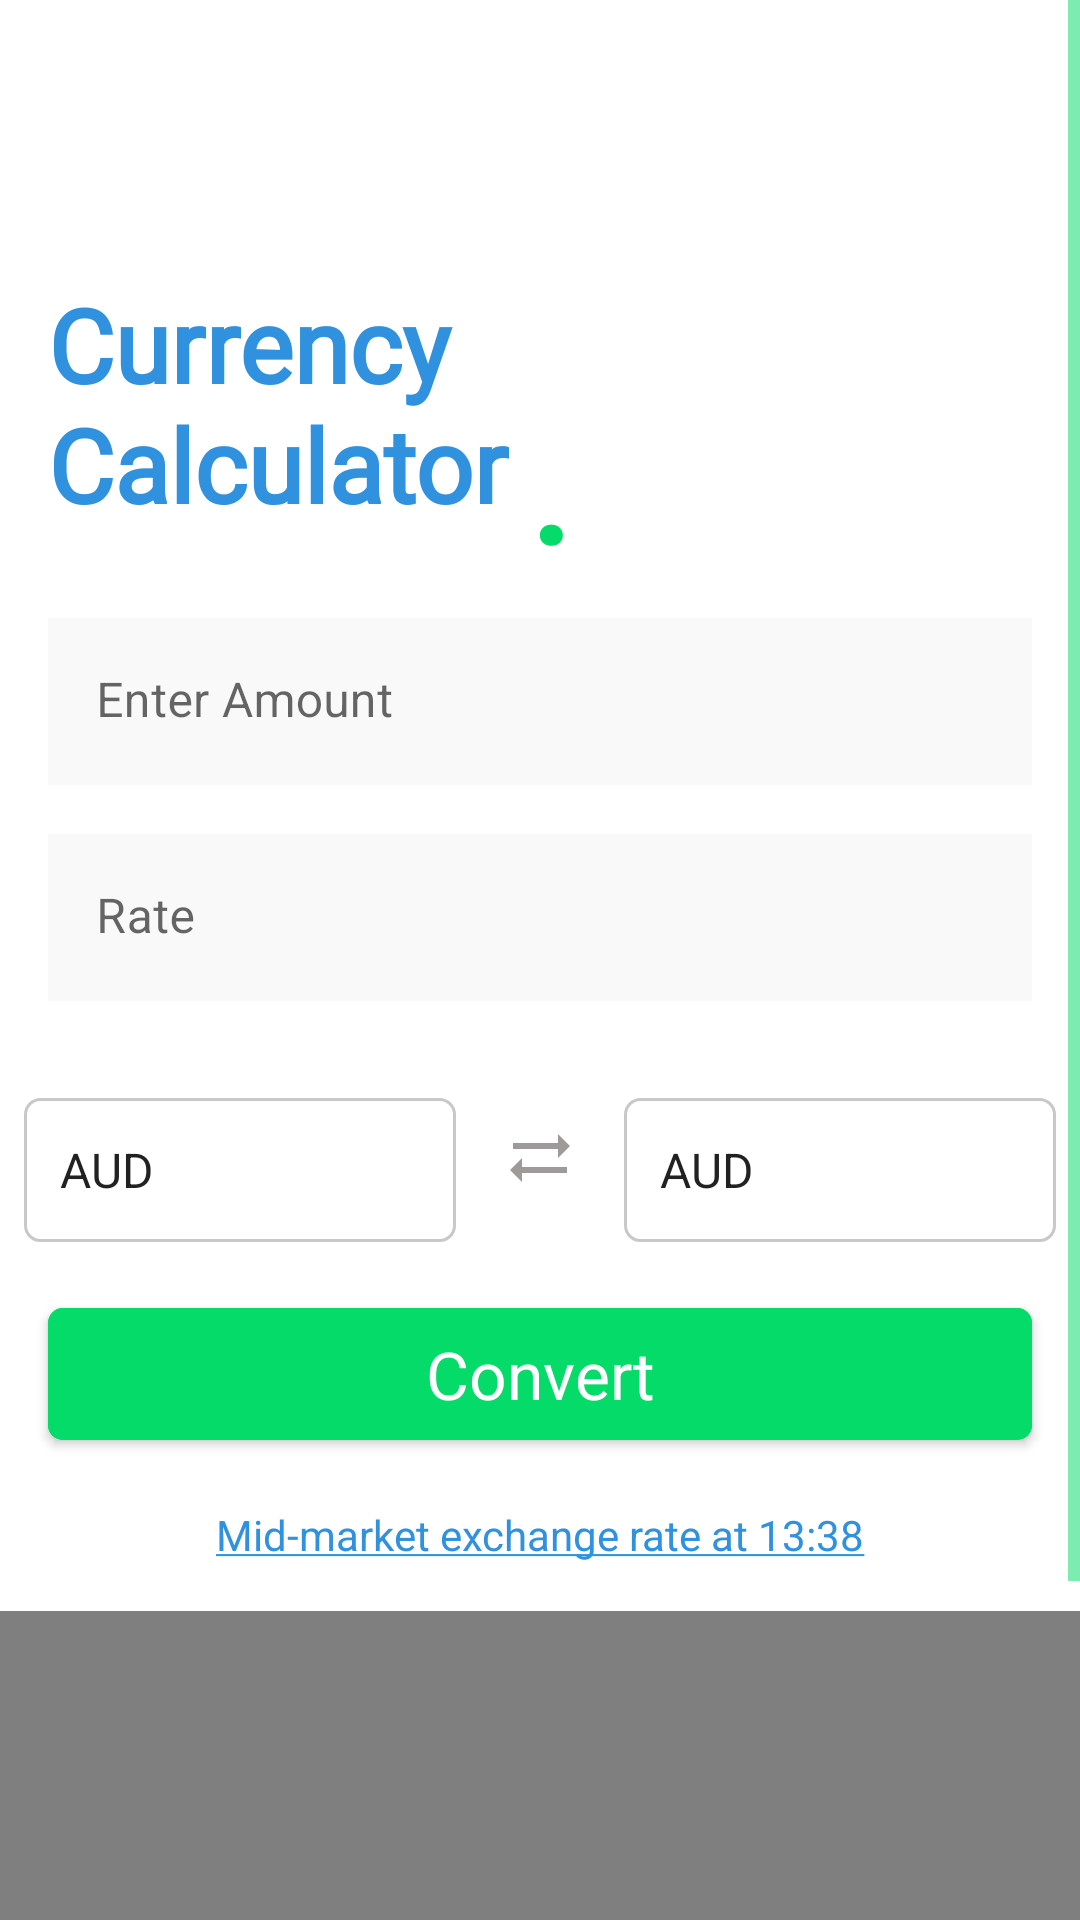

Where to tap for icons on this 1080px×1920px app screen, as [x,y]:
switch toggle: [540,1158]
